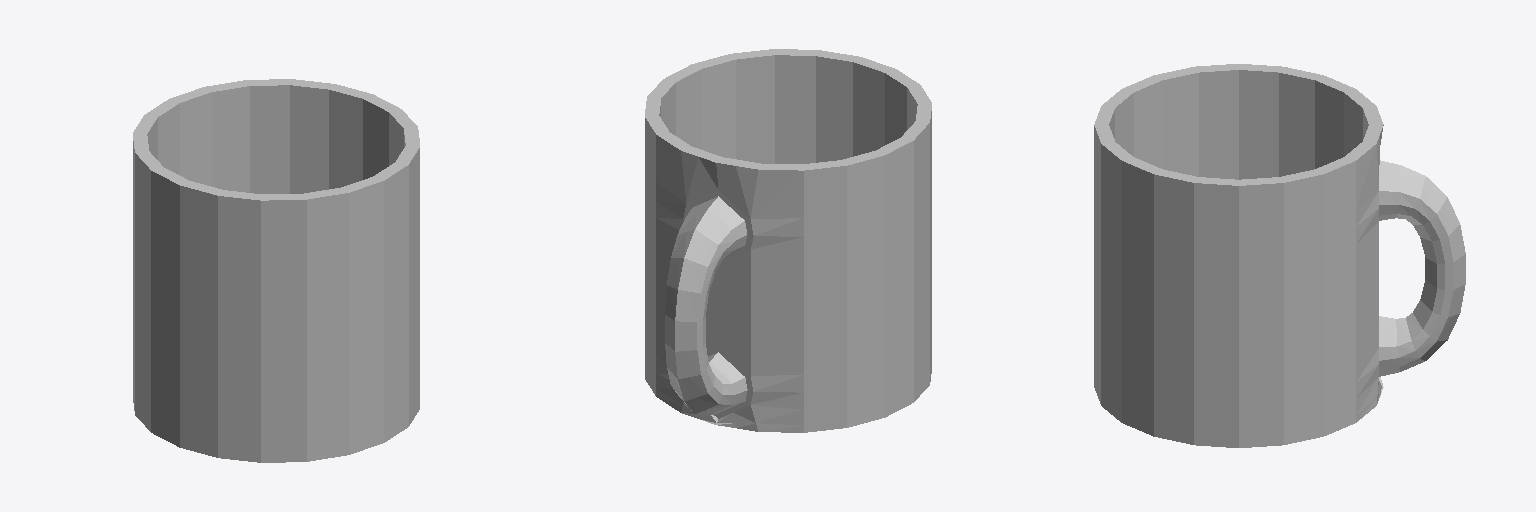
File: NFelsch_Mug.obj
The picture shows the model from 3 angles: view 1: azimuth 30°, elevation 25°; view 2: azimuth 150°, elevation 25°; view 3: azimuth 270°, elevation 25°; orthographic projection.
Parts seen in each view (by area): view 1: pCylinder1; view 2: pCylinder1; view 3: pCylinder1.
Part boxes in pixels (x1,y1,x2,y2): pCylinder1: (133,79,419,462); pCylinder1: (645,49,931,432); pCylinder1: (1094,64,1465,447).
Bounding box in the file's own units: 4.16 × 4.16 × 5.33.